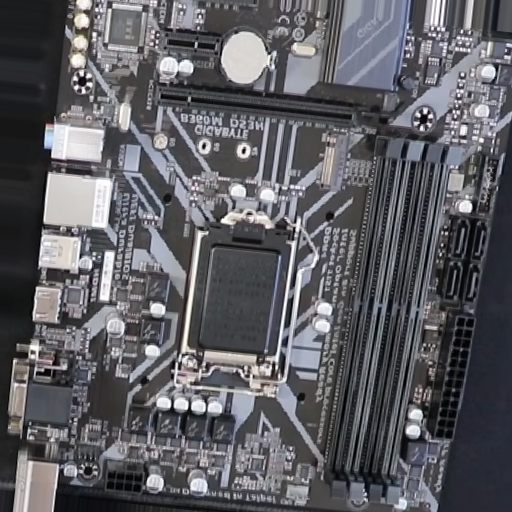CPU: (173, 209, 301, 398)
GPU: (153, 80, 396, 133)
MOTHERBOARD: (14, 1, 504, 507)
RAM: (326, 132, 465, 504)
SSD: (318, 132, 350, 191)
